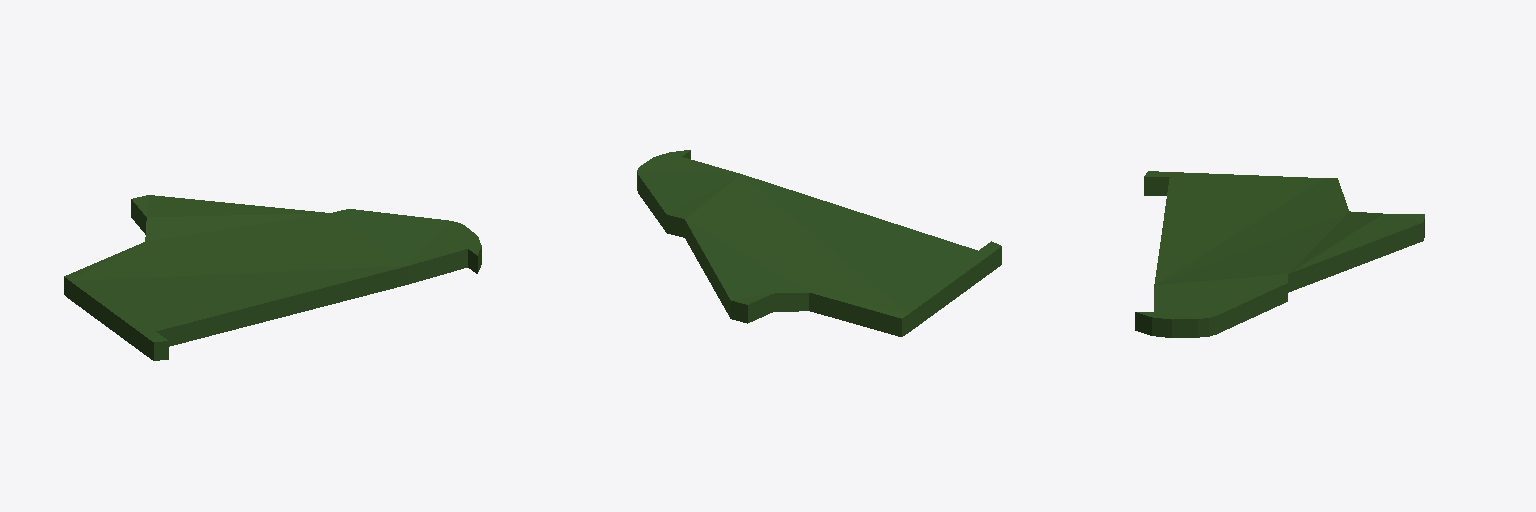
File: Ground_24.obj
3 renders of one model, left to right at view 1: azimuth 30°, elevation 25°; view 2: azimuth 150°, elevation 25°; view 3: azimuth 270°, elevation 25°, orthographic.
Visible parts, largest first — view 1: K_Ground_024 amb group1; view 2: K_Ground_024 amb group1; view 3: K_Ground_024 amb group1.
Boxes of the visible parts, x1,y1,x2,y2 form: K_Ground_024 amb group1: [64, 195, 481, 360]; K_Ground_024 amb group1: [637, 150, 1001, 336]; K_Ground_024 amb group1: [1135, 171, 1424, 337].
Bounding box in the file's own units: 75.37 × 8.8 × 56.24.